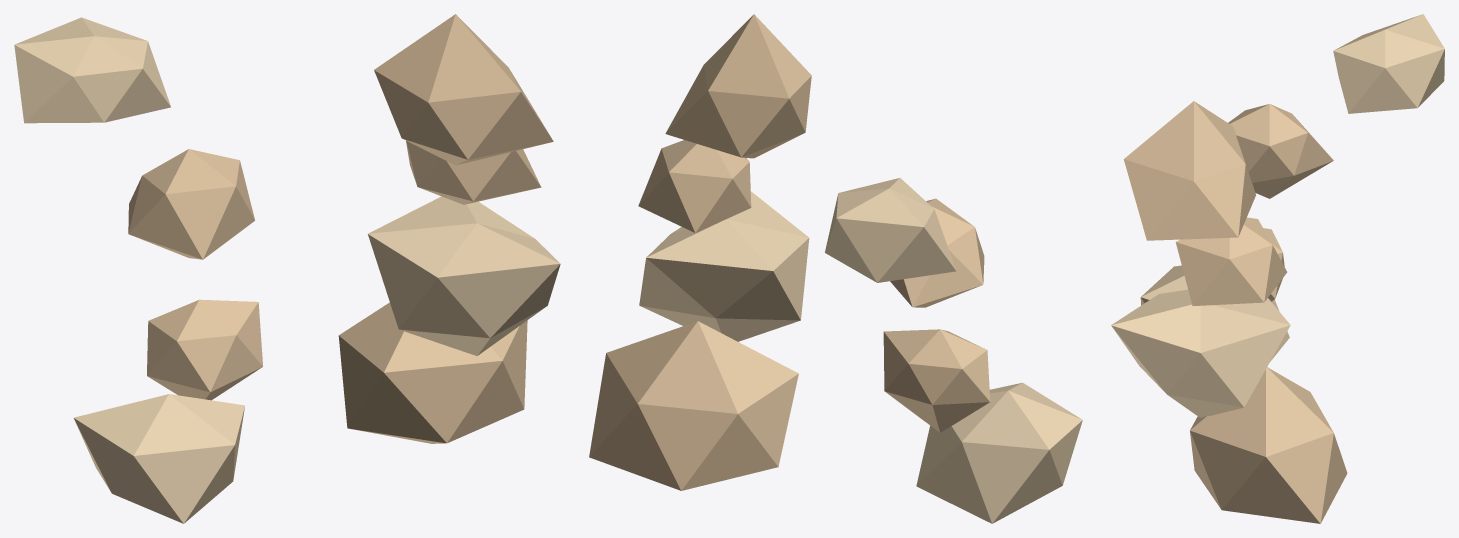
File: rubble.glb
3 renders of one model, left to right at view 1: azimuth 30°, elevation 25°; view 2: azimuth 150°, elevation 25°; view 3: azimuth 270°, elevation 25°, orthographic. The views are drawn at different scales.
Visible parts, largest first — view 1: rubble; view 2: rubble; view 3: rubble.
Part boxes in pixels (x1,y1,x2,y2): rubble: [14, 14, 560, 523]; rubble: [589, 14, 1082, 523]; rubble: [1111, 14, 1444, 523].
Size of the model in its own units: 0.8897 by 0.8591 by 0.6417.
